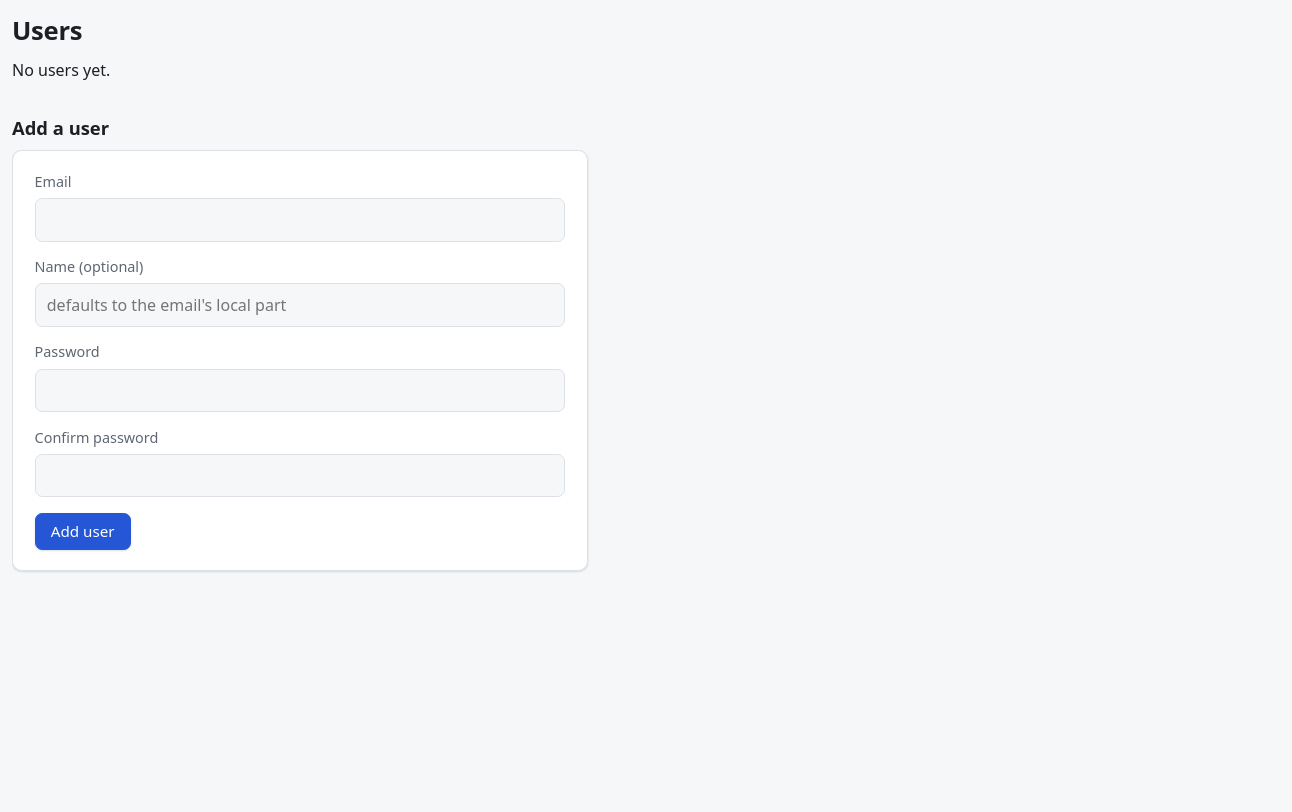
Admin › shows the server error when a duplicate email is rejected
Check: the text "No users yet." is shown, box [12, 59, 110, 81]
Type "dup@example.com" into the field labelled "Email" at [300, 220], box [35, 198, 565, 242]
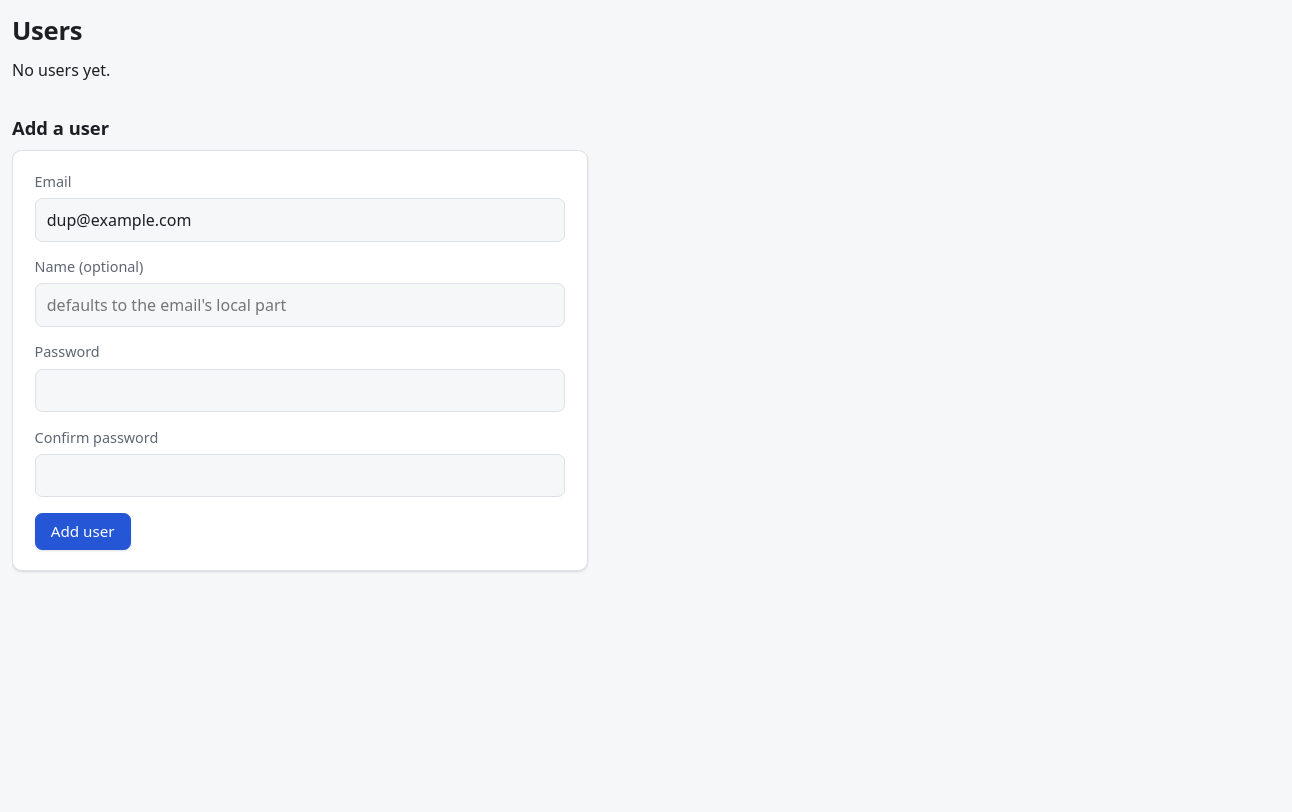
Type "password123" into the password field labelled "Password" at [300, 390], box [35, 369, 565, 412]
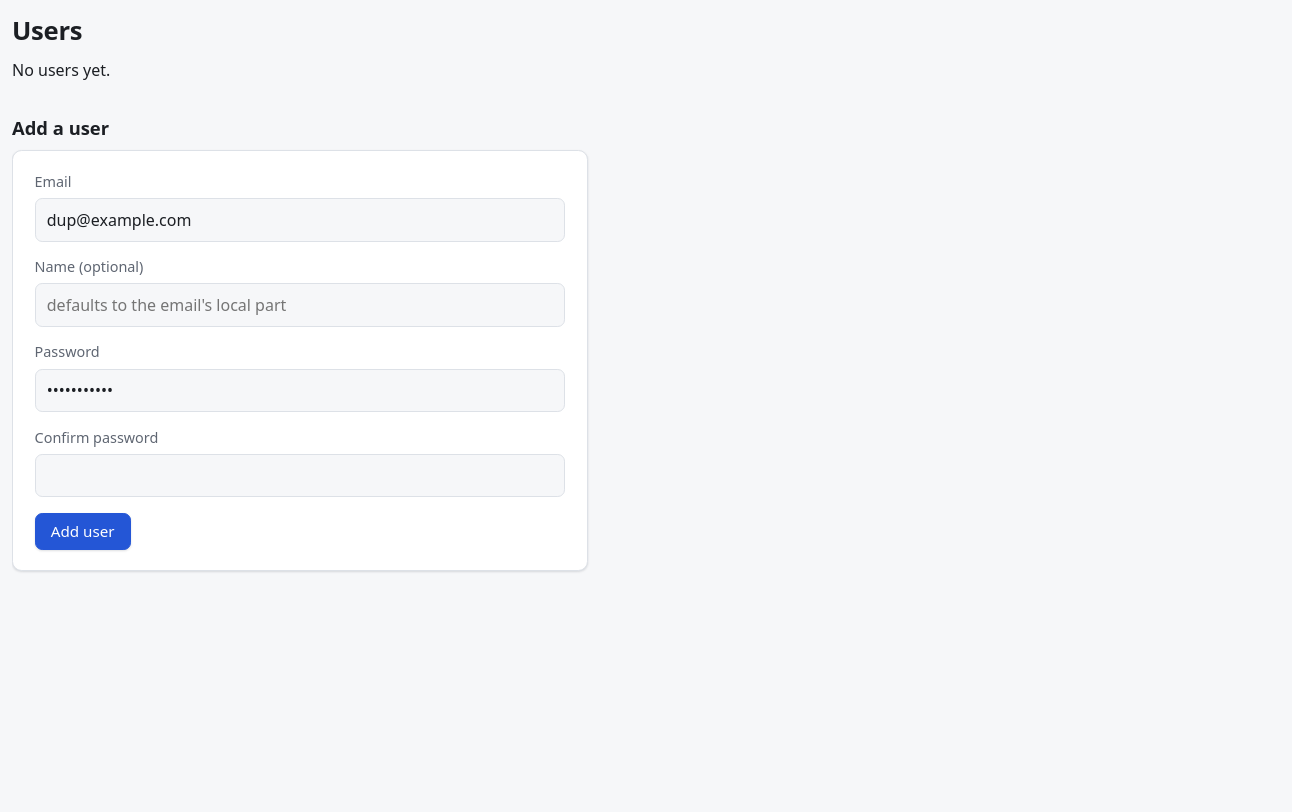
Type "password123" into the password field labelled "Confirm password" at [300, 476], box [35, 454, 565, 497]
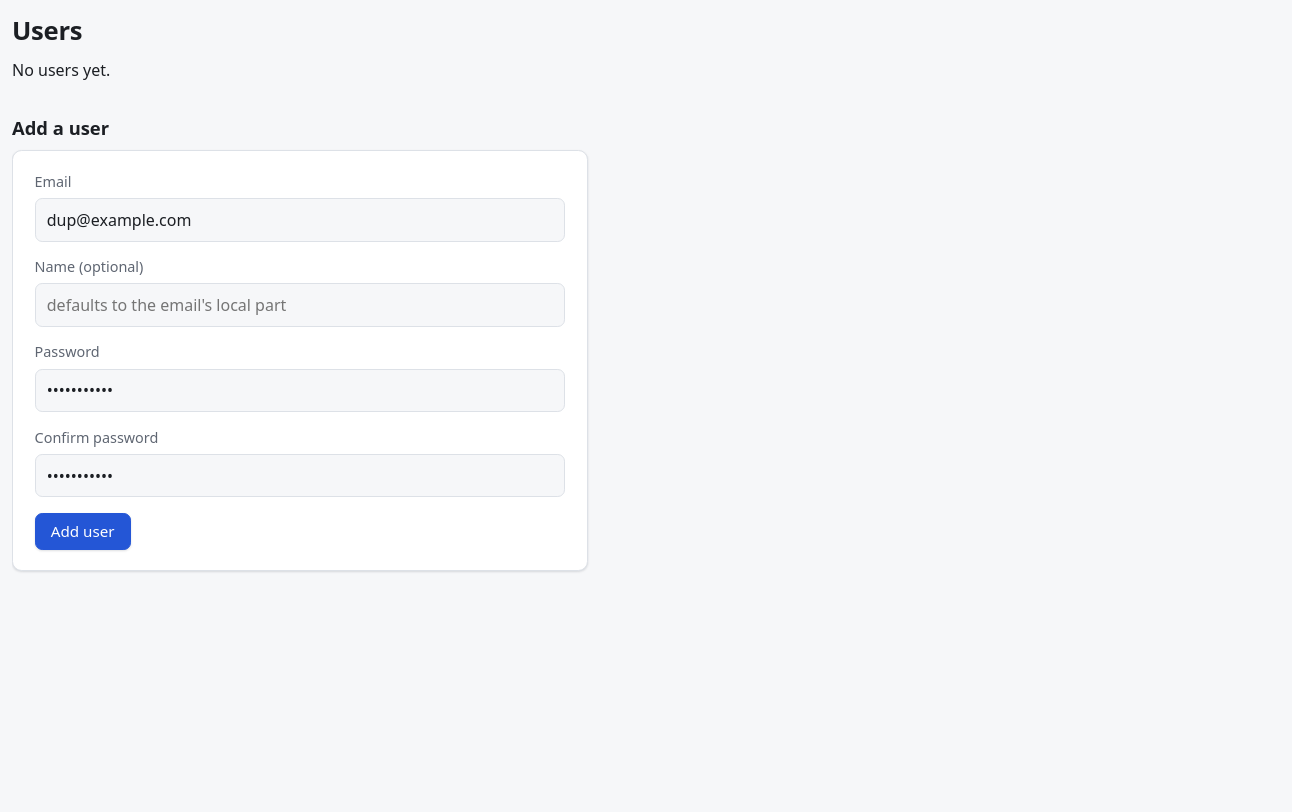
Click the button "Add user" at [83, 532], box [35, 513, 131, 550]
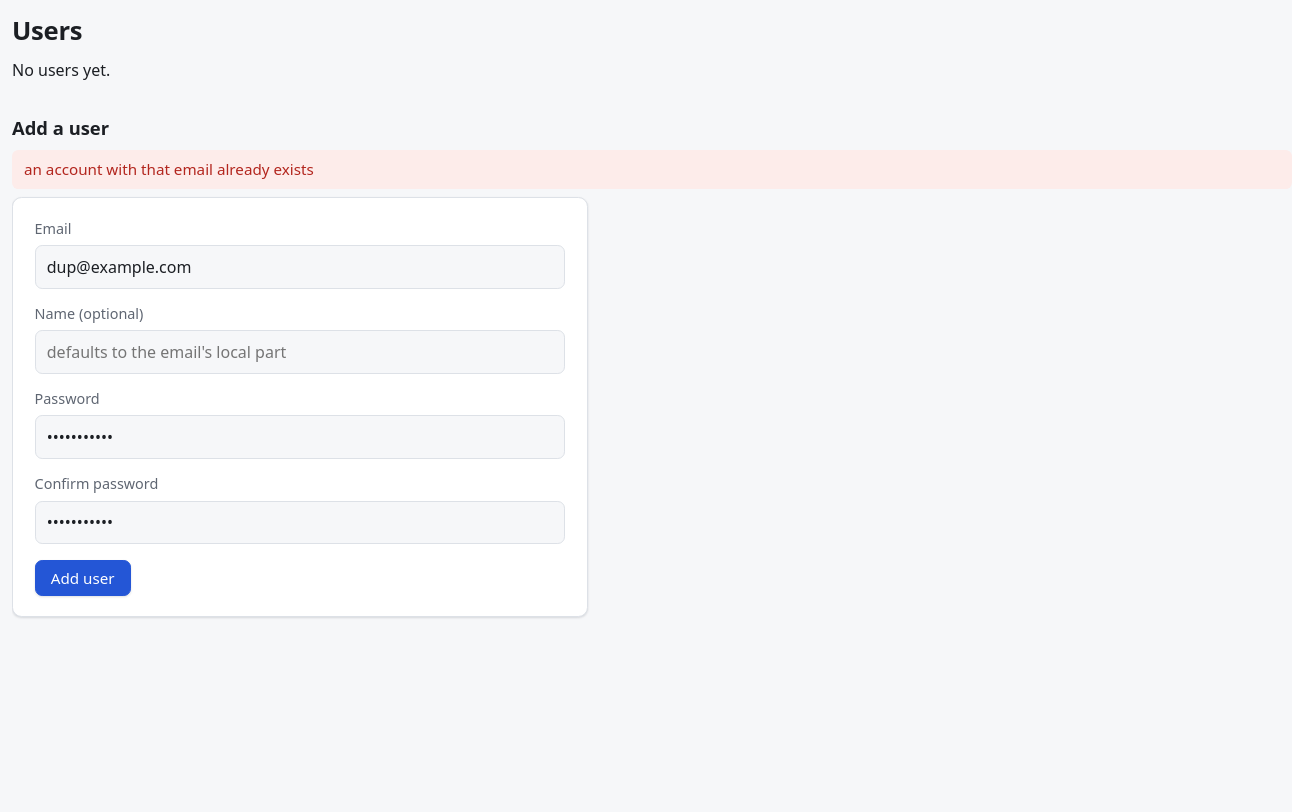
Check: the text "an account with that email already exists" is shown, box [12, 150, 1291, 189]
